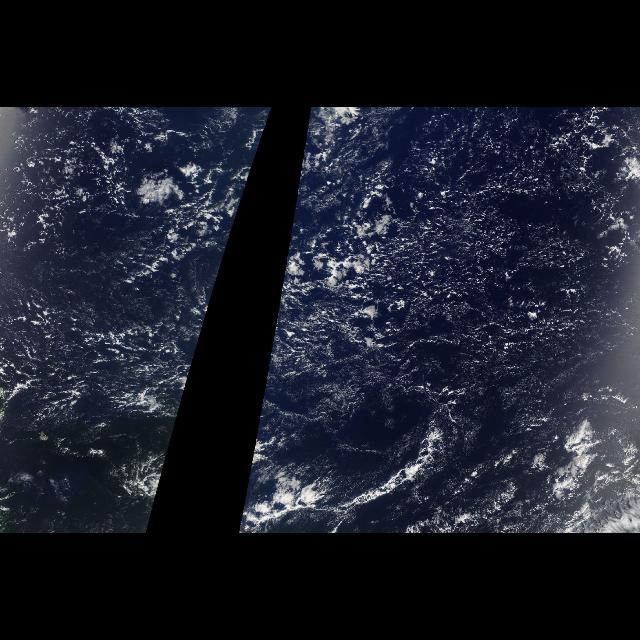Gravel: (264, 107, 636, 381), (2, 107, 272, 381)
Sugar: (412, 120, 606, 372)
